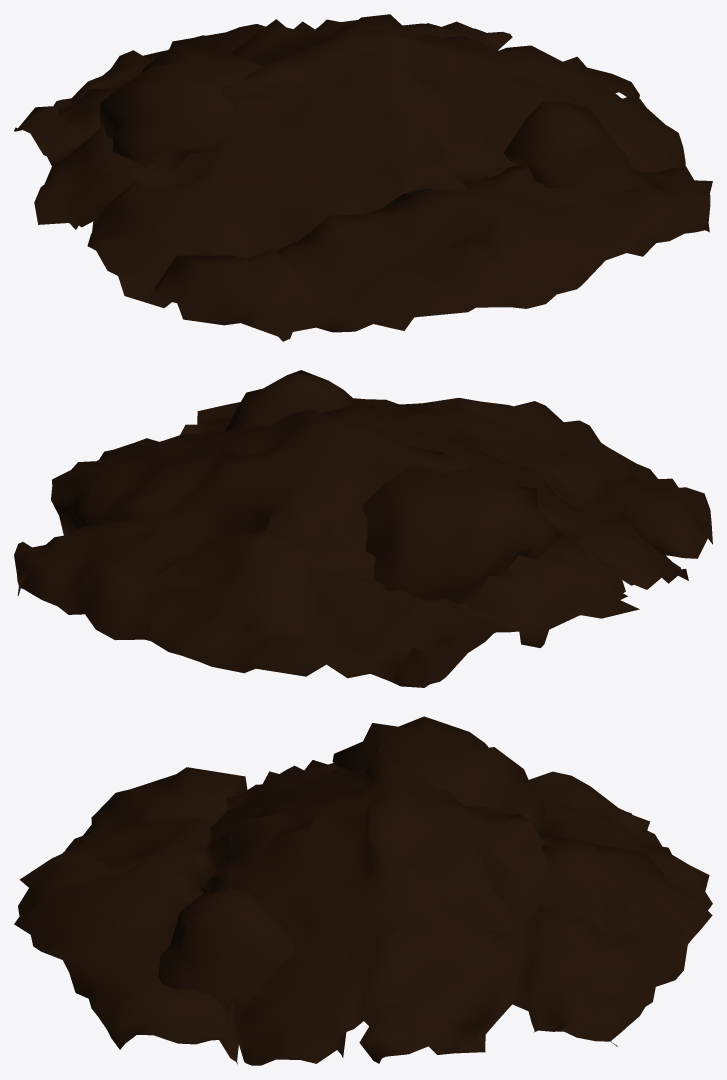
Rendered from SM_Barnacle_Rock_01.dae.
3 renders of one model, top to bottom at view 1: azimuth 30°, elevation 25°; view 2: azimuth 150°, elevation 25°; view 3: azimuth 270°, elevation 25°, orthographic. The views are drawn at different scales.
Visible parts, largest first — view 1: SM_Barnacle_Rock_01_LOD0; view 2: SM_Barnacle_Rock_01_LOD0; view 3: SM_Barnacle_Rock_01_LOD0.
Part boxes in pixels (x1,y1,x2,y2): SM_Barnacle_Rock_01_LOD0: (14,14,712,341); SM_Barnacle_Rock_01_LOD0: (14,370,712,687); SM_Barnacle_Rock_01_LOD0: (14,716,712,1065).
Size of what is drawn, in the model's own units: 167 by 40.27 by 169.
